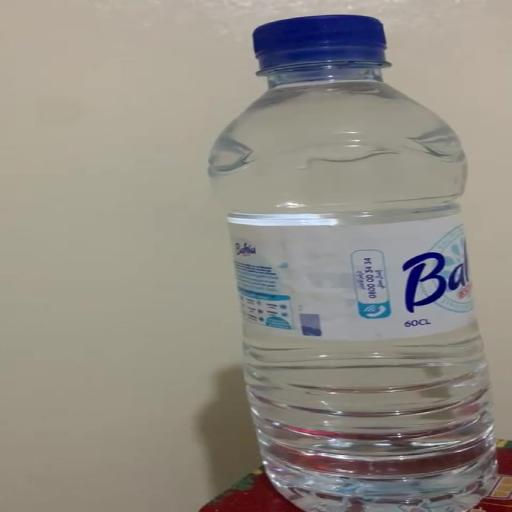bouteille conformite: (179, 7, 512, 512)
